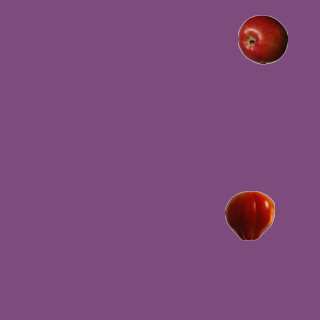Apple Braeburn: (237, 14, 287, 64)
Tomato 1: (224, 190, 274, 240)
